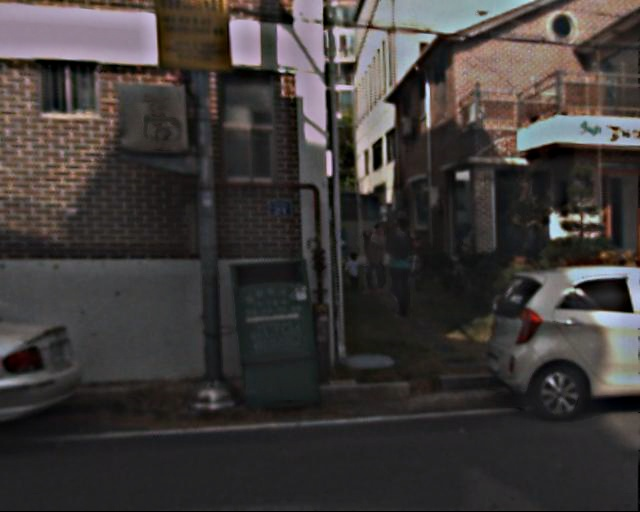person: (378, 213, 424, 320), (360, 220, 391, 297), (341, 254, 359, 294)
